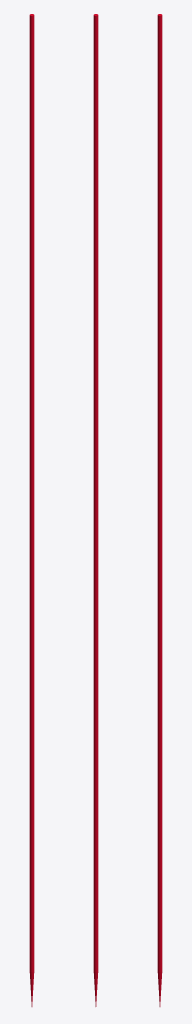
File: Sonda_aperta.fbx
3 views of the same model, side by side, from view 1: azimuth 90°, elevation 25°; view 2: azimuth 150°, elevation 25°; view 3: azimuth 270°, elevation 25° (orthographic).
Parts seen in each view (by area): view 1: sonda aperta; view 2: sonda aperta; view 3: sonda aperta.
Part boxes in pixels (x1,y1,x2,y2): sonda aperta: (29,14,34,1006); sonda aperta: (93,14,98,1006); sonda aperta: (157,14,162,1006).
Size of the model in its own units: 1 by 240 by 1.
